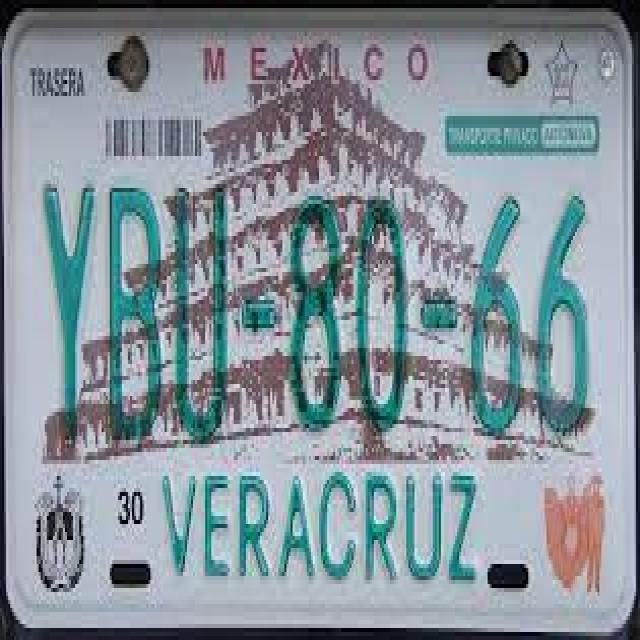placa: (10, 160, 627, 457)
